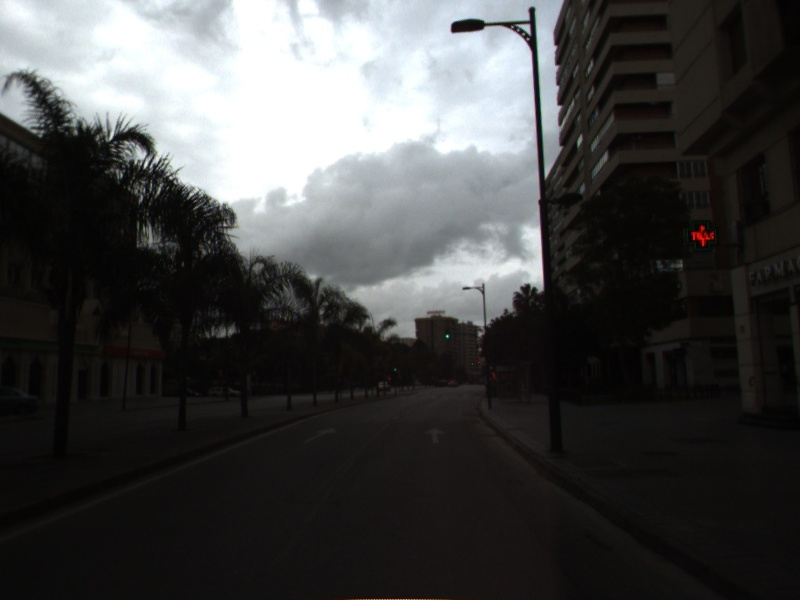STRAIGHT: (300, 425, 338, 445), (423, 425, 448, 446)
